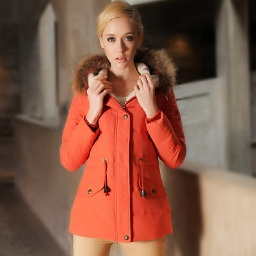face: (89, 1, 149, 72)
